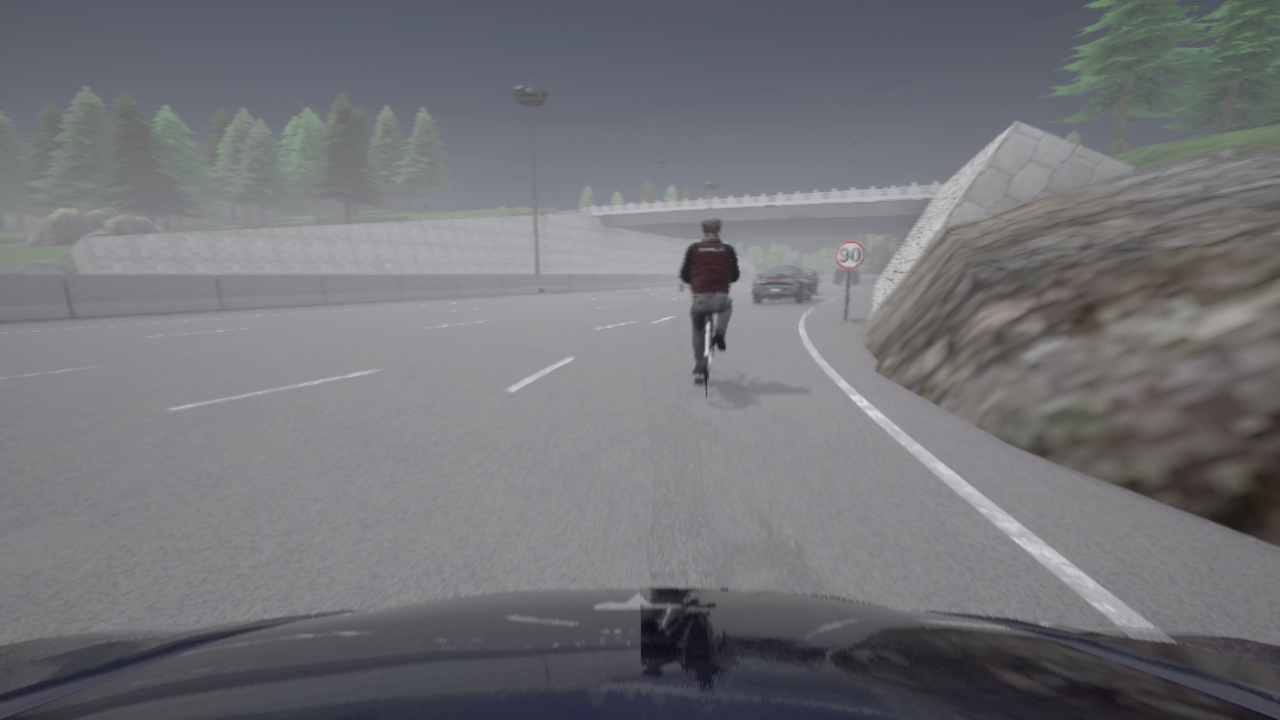cyclist: (0, 588, 1279, 719), (752, 266, 812, 304), (694, 315, 715, 399), (799, 269, 819, 294), (834, 267, 859, 284), (679, 277, 690, 290), (756, 270, 767, 278), (818, 277, 820, 282)
